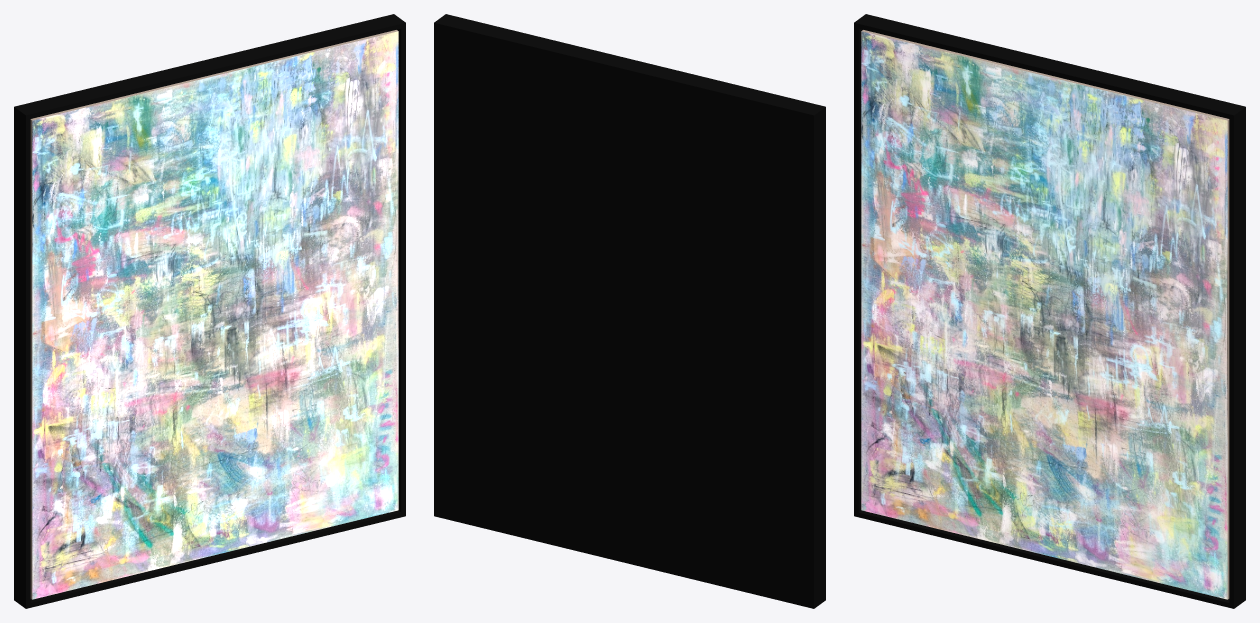
Rendered from swimming-in-the-rain-black.glb.
3 views of the same model, side by side, from view 1: azimuth 30°, elevation 25°; view 2: azimuth 150°, elevation 25°; view 3: azimuth 330°, elevation 25° (orthographic).
Visible parts, largest first — view 1: painting; view 2: painting; view 3: painting.
Boxes of the visible parts, box(x1,y1,x2,y2) form: painting: box(14, 14, 405, 608); painting: box(434, 14, 825, 608); painting: box(854, 14, 1245, 608).
Bounding box in the file's own units: 0.83 × 1.03 × 0.045.
Materials: 3 (1 with a texture image).
